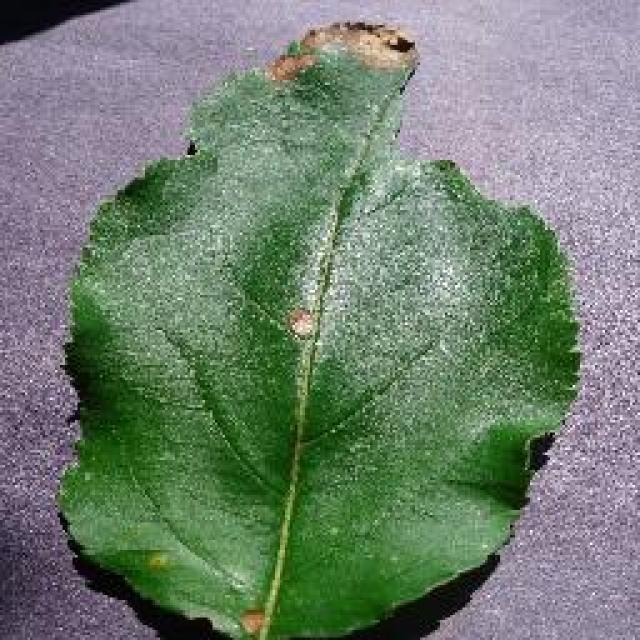apple black rot: (52, 18, 582, 638)
